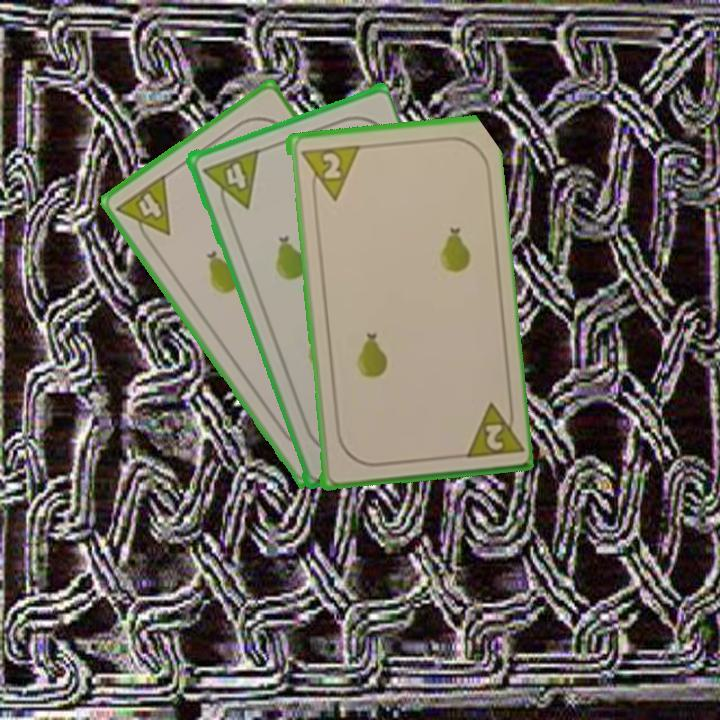2p: (296, 141, 360, 204), (481, 420, 506, 454)
4p: (112, 170, 174, 250), (198, 146, 262, 217)
